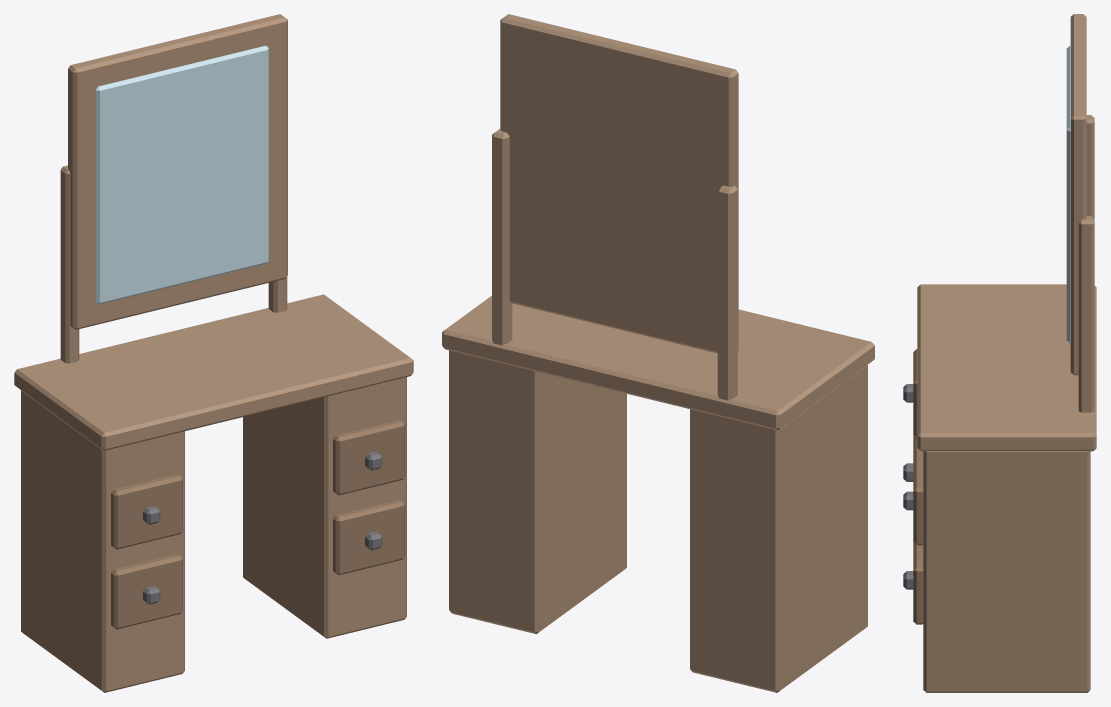
The model's file is SM_Vanity.fbx.
The picture shows the model from 3 angles, left to right: view 1: azimuth 30°, elevation 25°; view 2: azimuth 150°, elevation 25°; view 3: azimuth 270°, elevation 25°; orthographic projection. The views are drawn at different scales.
Parts seen in each view (by area): view 1: Vanity; view 2: Vanity; view 3: Vanity.
Part boxes in pixels (left/top/right/bottom): Vanity: left=14, top=14, right=413, bottom=692; Vanity: left=442, top=14, right=874, bottom=692; Vanity: left=903, top=14, right=1096, bottom=692.
Bounding box in the file's own units: 90 × 154 × 48.5.
